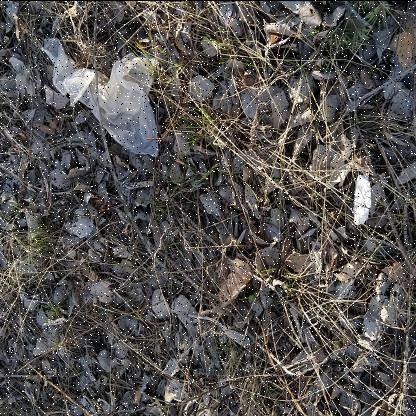foam: (352, 173, 372, 225)
plastic: (42, 35, 160, 159)
